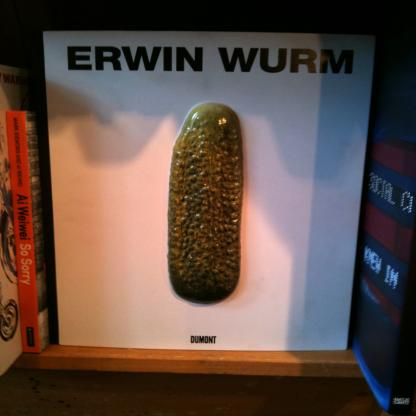book: (41, 13, 380, 381)
